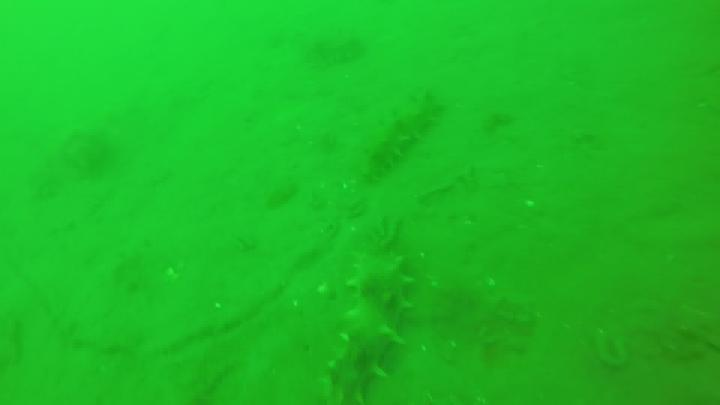holothurian: (325, 245, 408, 405), (365, 87, 447, 194), (297, 33, 362, 69)
